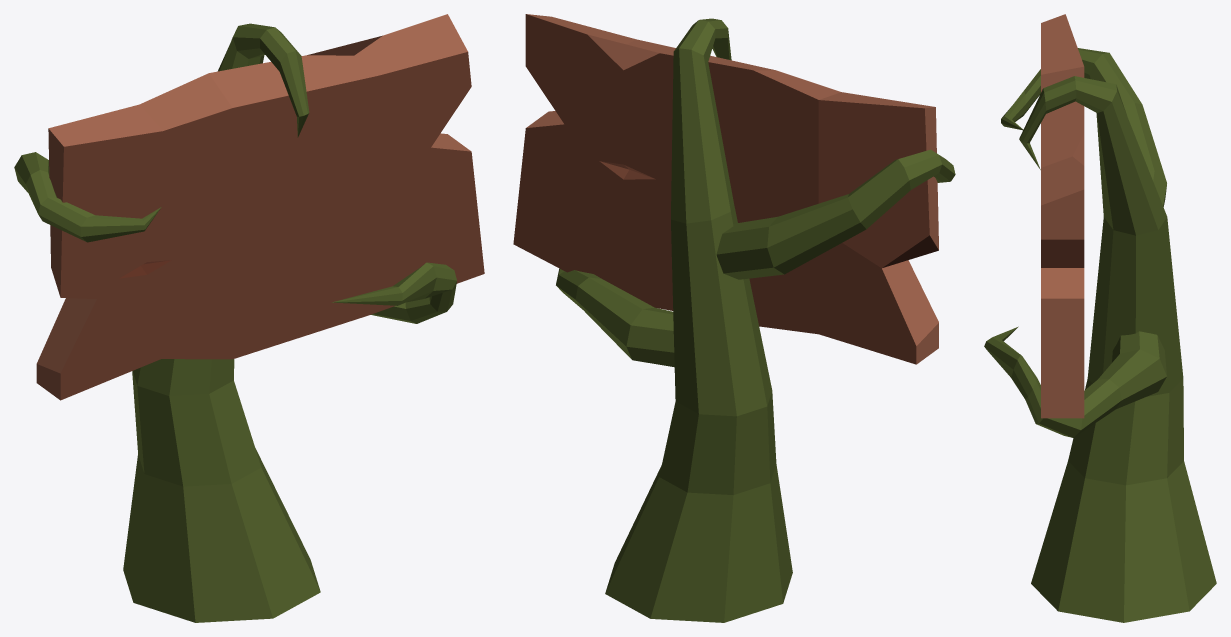
File: Signpost_Root.glb
3 renders of one model, left to right at view 1: azimuth 30°, elevation 25°; view 2: azimuth 150°, elevation 25°; view 3: azimuth 270°, elevation 25°, orthographic. The views are drawn at different scales.
Parts seen in each view (by area): view 1: Fantasy_SignRoot; view 2: Fantasy_SignRoot; view 3: Fantasy_SignRoot.
Part boxes in pixels (left/top/right/bottom): Fantasy_SignRoot: left=14, top=14, right=484, bottom=622; Fantasy_SignRoot: left=513, top=14, right=955, bottom=622; Fantasy_SignRoot: left=984, top=14, right=1216, bottom=622.
Size of what is drawn, in the model's own units: 1.55 by 1.89 by 0.7745.
Materials: 1 (1 with a texture image).
